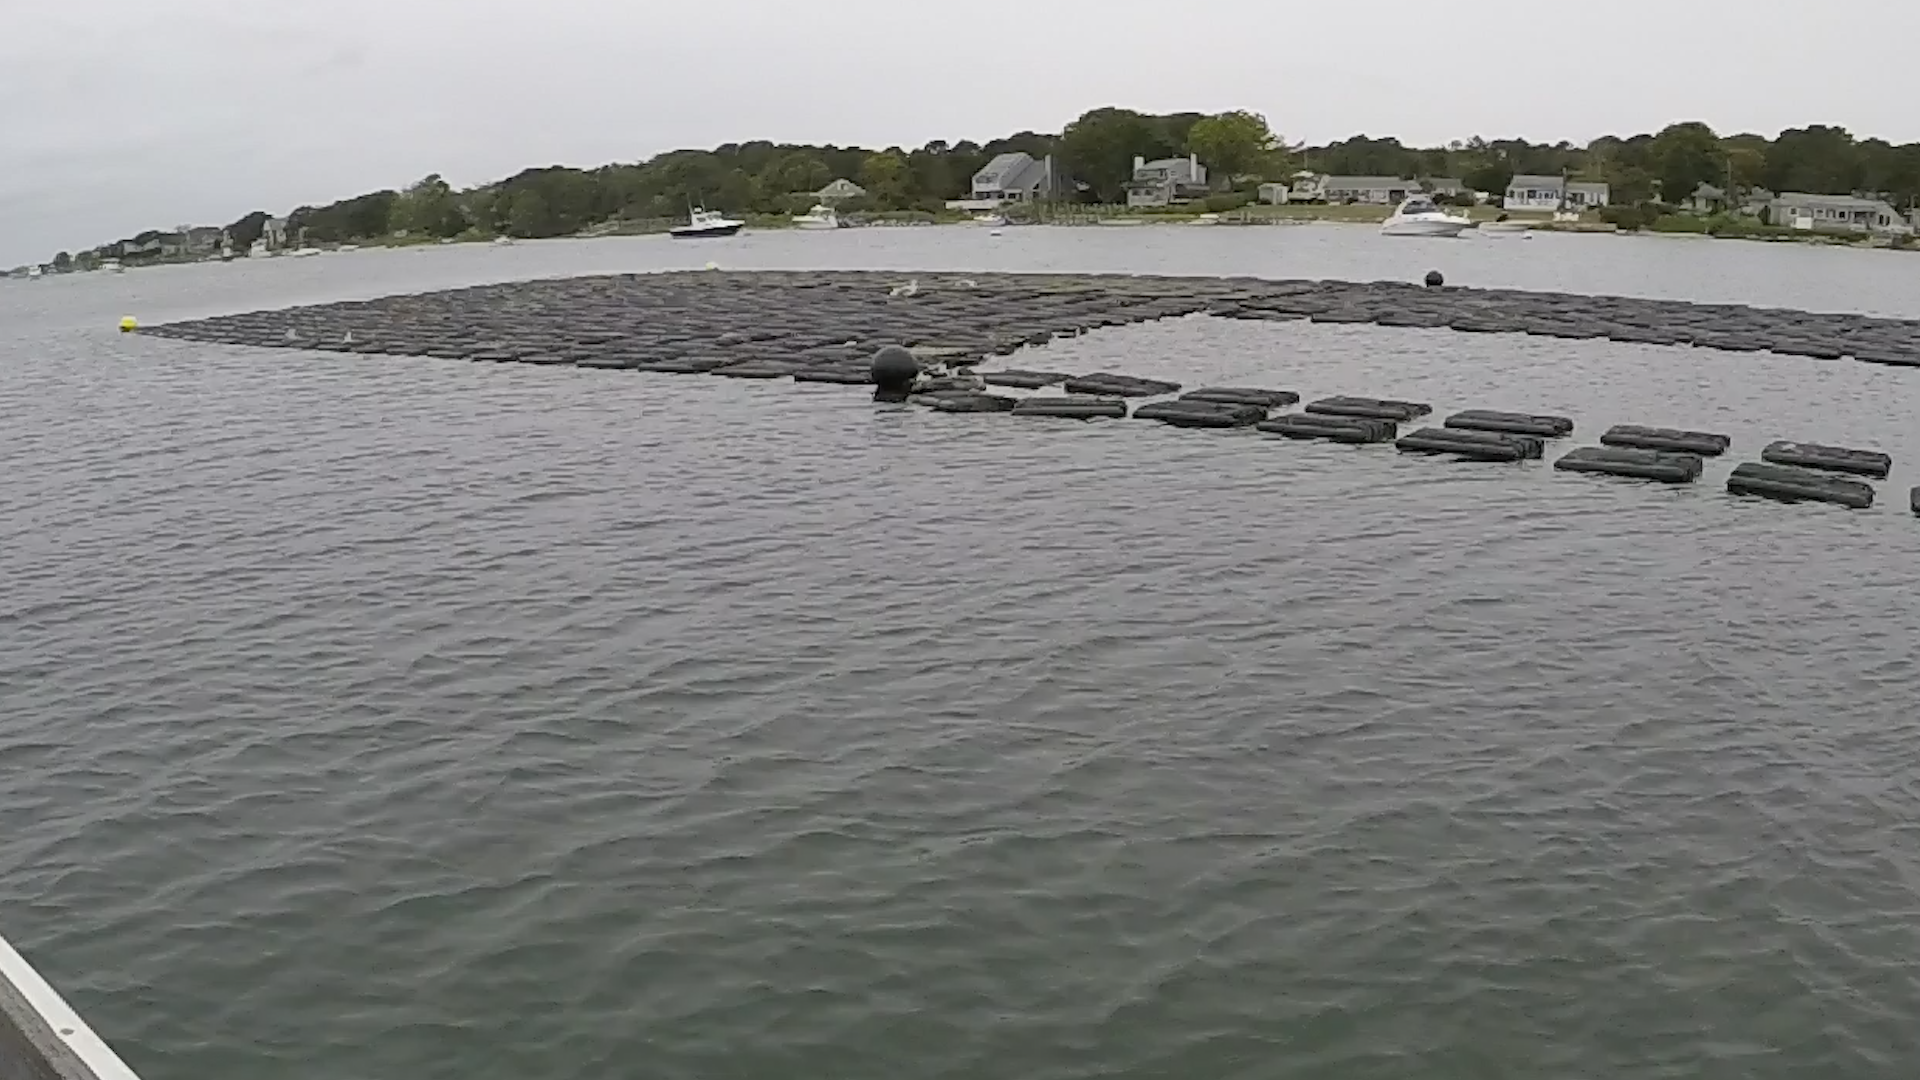bag: (1722, 462, 1879, 510), (1399, 431, 1542, 467), (1552, 446, 1700, 477)
